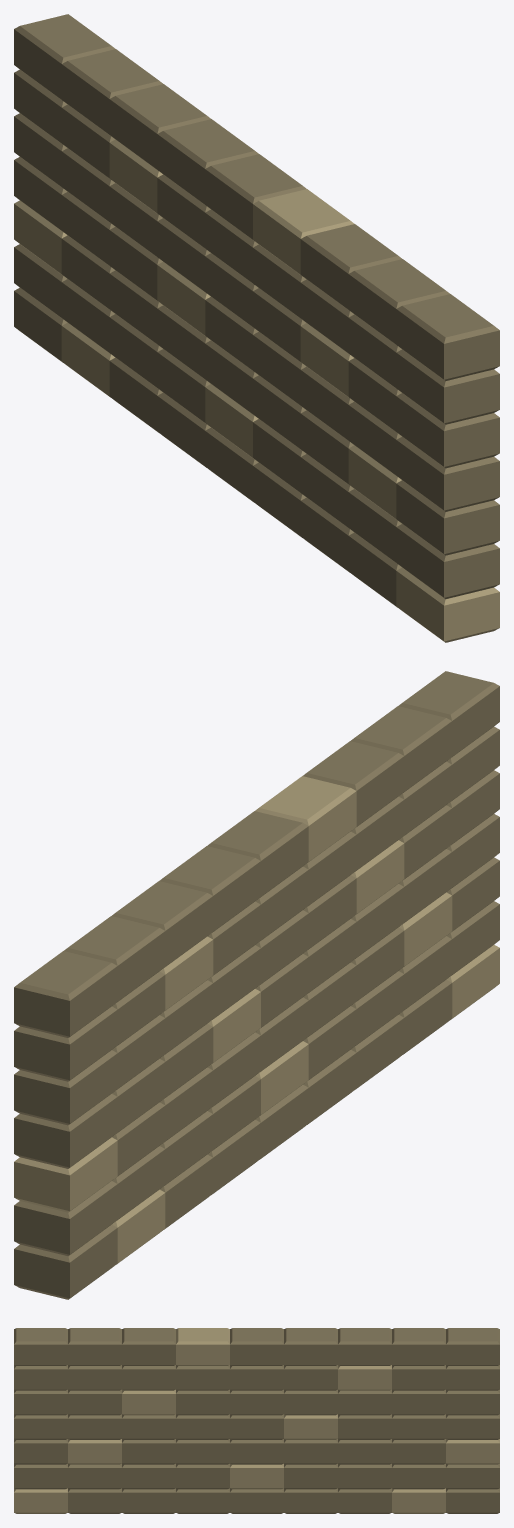
The model's file is RightWall.obj.
The picture shows the model from 3 angles, top to bottom: view 1: azimuth 30°, elevation 25°; view 2: azimuth 150°, elevation 25°; view 3: azimuth 270°, elevation 25°; orthographic projection. The views are drawn at different scales.
Parts seen in each view (by area): view 1: RightWall; view 2: RightWall; view 3: RightWall.
Boxes of the visible parts, x1=… form: RightWall: x1=14, y1=14, x2=499, y2=642; RightWall: x1=14, y1=671, x2=499, y2=1299; RightWall: x1=14, y1=1328, x2=499, y2=1513.
Size of the model in its own units: 1.8 by 9.4 by 24.
